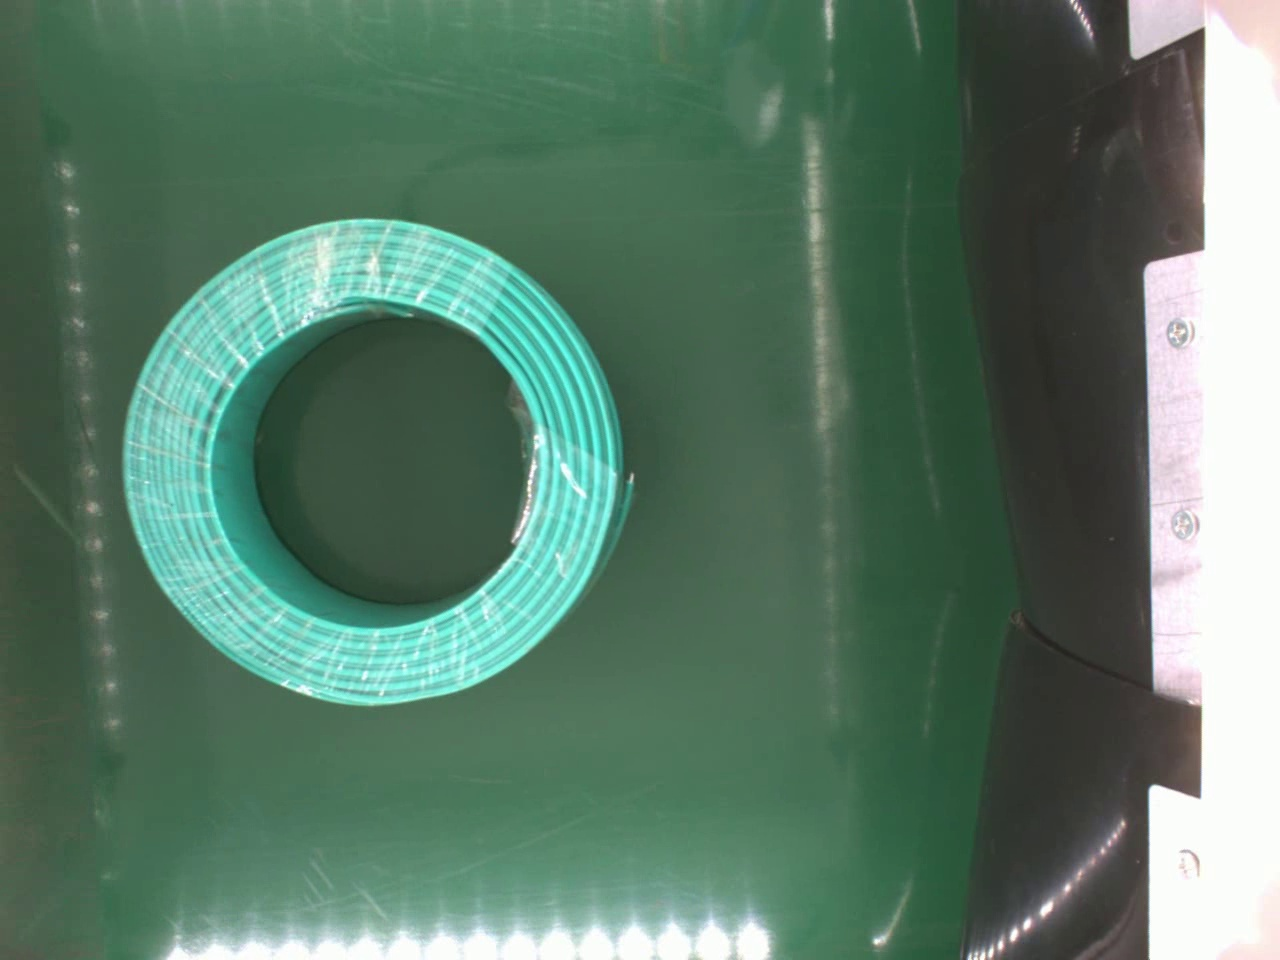green: (119, 217, 634, 709)
